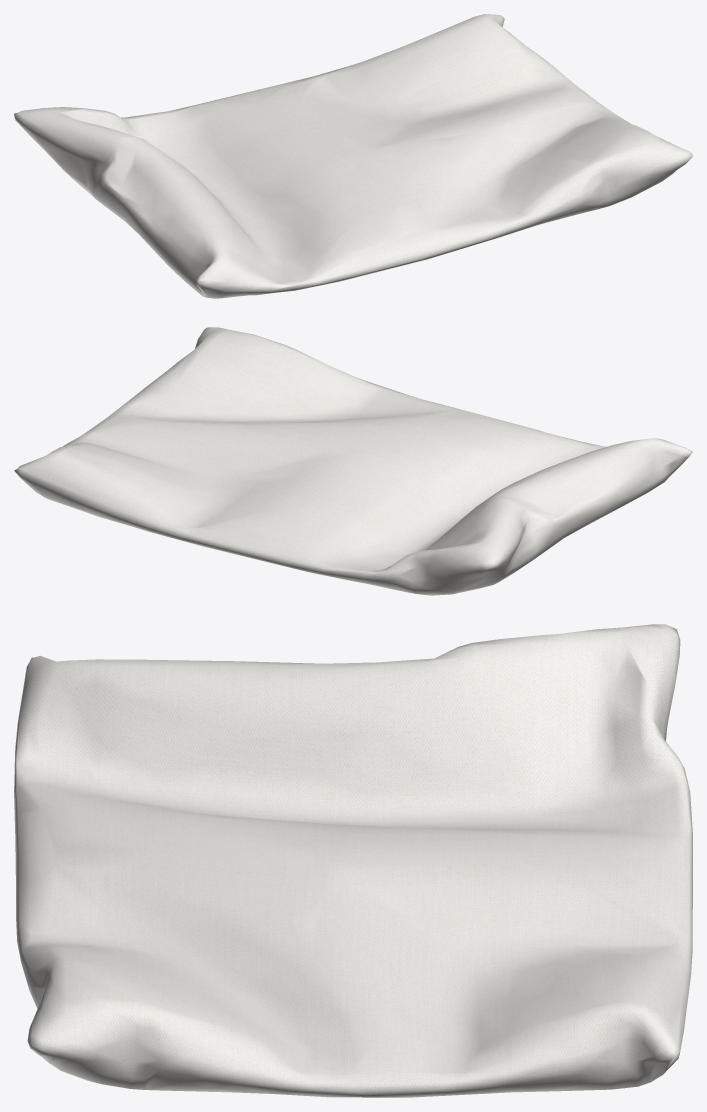
The model's file is Mattress 2.FBX.
The picture shows the model from 3 angles, top to bottom: view 1: azimuth 30°, elevation 25°; view 2: azimuth 150°, elevation 25°; view 3: azimuth 270°, elevation 25°; orthographic projection. The views are drawn at different scales.
Parts seen in each view (by area): view 1: Mattress 2; view 2: Mattress 2; view 3: Mattress 2.
Part boxes in pixels (x1,y1,x2,y2): Mattress 2: (14, 14, 692, 298); Mattress 2: (14, 327, 692, 595); Mattress 2: (14, 624, 692, 1097).
Bounding box in the file's own units: 78.06 × 9.82 × 55.35.
